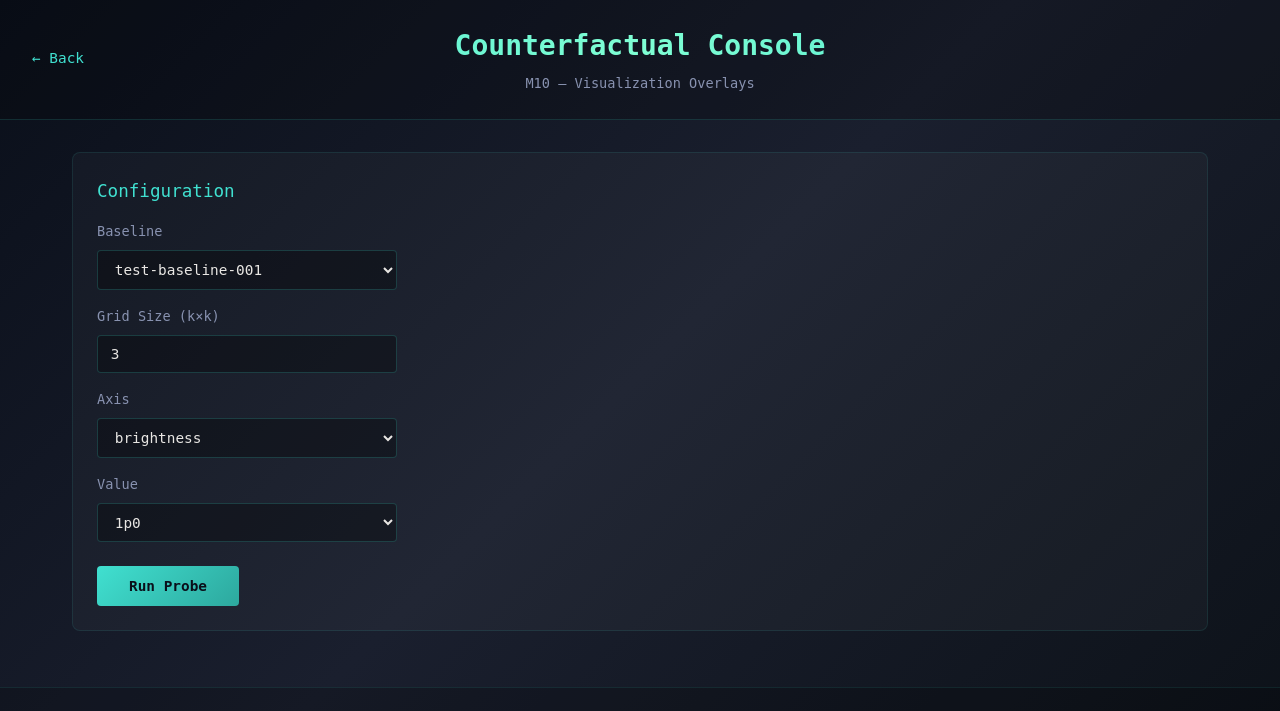
Scenario: CounterfactualConsole Error Handling › displays error when probe run fails
Click the button "Run Probe". click: [168, 586]
box: [97,566,239,606]
(page scrolled)
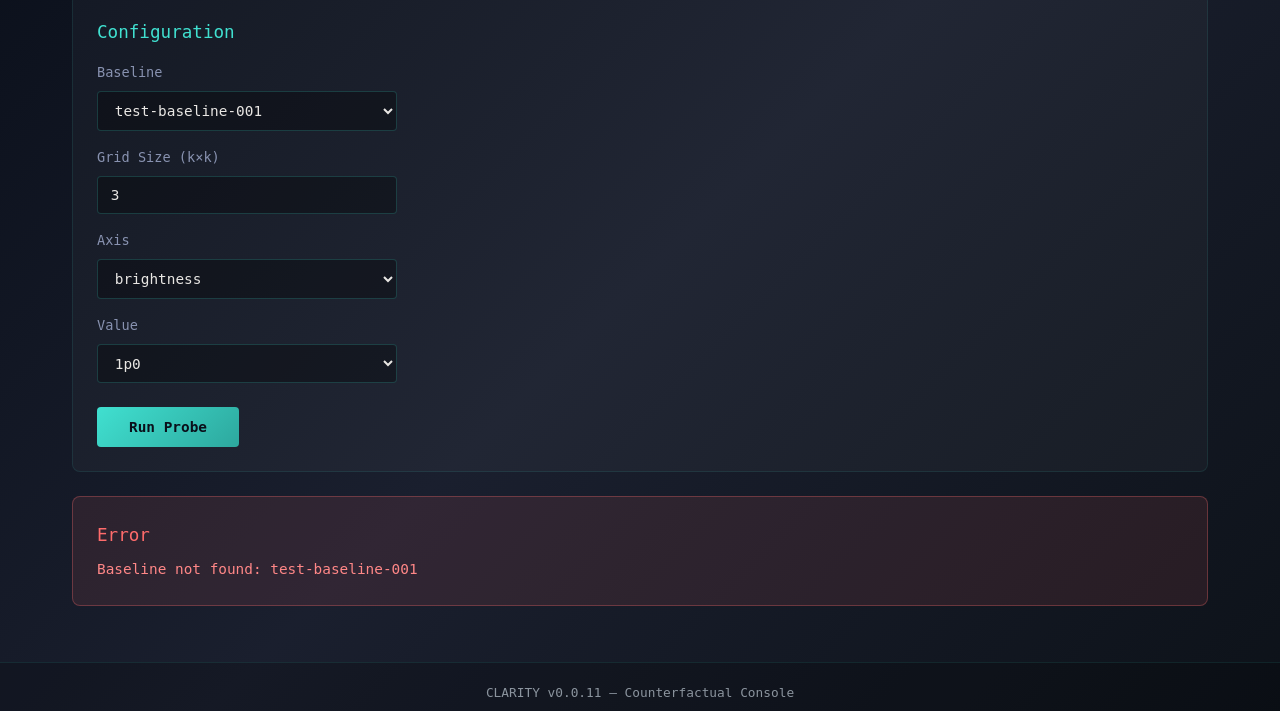
Check: the heading "Error" is shown, box [97,525,150,545]
Check: the text "Baseline not found: test-baseline-001" is shown, box [97,561,418,577]
